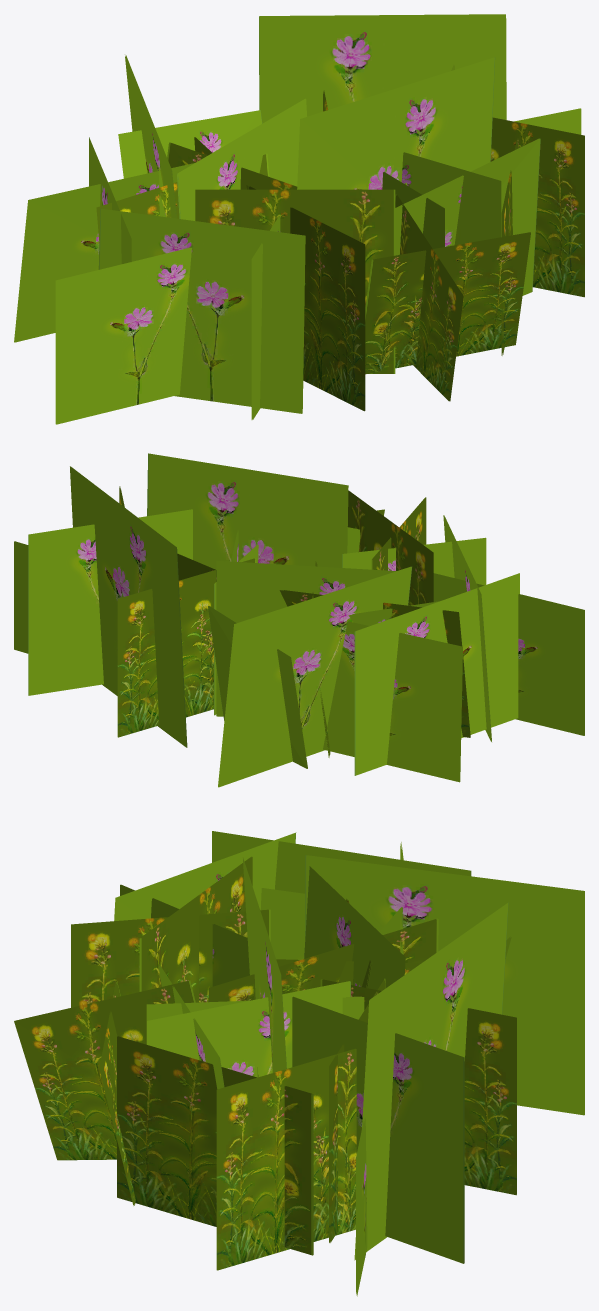
File: grass09a.FBX
The picture shows the model from 3 angles, top to bottom: view 1: azimuth 30°, elevation 25°; view 2: azimuth 150°, elevation 25°; view 3: azimuth 270°, elevation 25°; orthographic projection. The views are drawn at different scales.
Visible parts, largest first — view 1: grass09a; view 2: grass09a; view 3: grass09a.
Part boxes in pixels (left/top/right/bottom): grass09a: left=14, top=14, right=584, bottom=424; grass09a: left=14, top=453, right=584, bottom=787; grass09a: left=14, top=831, right=584, bottom=1296.
Size of the model in its own units: 145 by 56.24 by 109.
